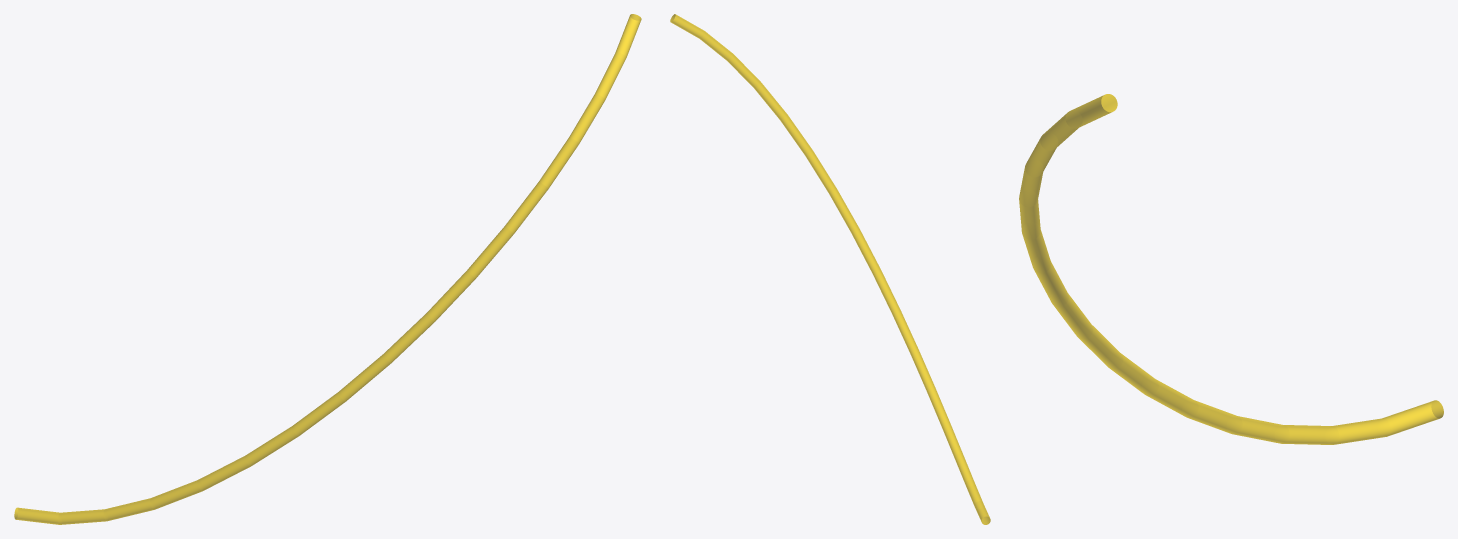
Rendered from Event_31209032_track_24.fbx.
3 renders of one model, left to right at view 1: azimuth 30°, elevation 25°; view 2: azimuth 150°, elevation 25°; view 3: azimuth 270°, elevation 25°, orthographic. The views are drawn at different scales.
Visible parts, largest first — view 1: Model; view 2: Model; view 3: Model.
Part boxes in pixels (left/top/right/bottom): Model: left=14, top=14, right=641, bottom=524; Model: left=670, top=14, right=990, bottom=524; Model: left=1019, top=94, right=1443, bottom=444.
Bounding box in the file's own units: 1.95 × 1.64 × 0.8942.
